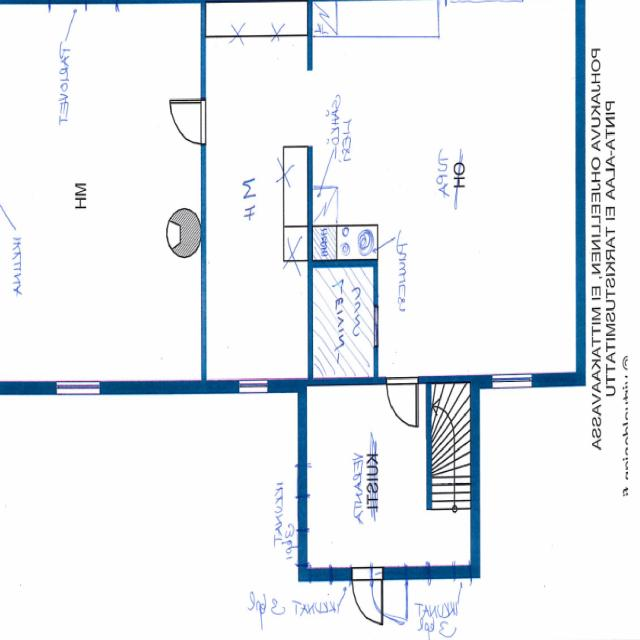door: (372, 566, 408, 630), (388, 381, 418, 430), (172, 100, 206, 143)
